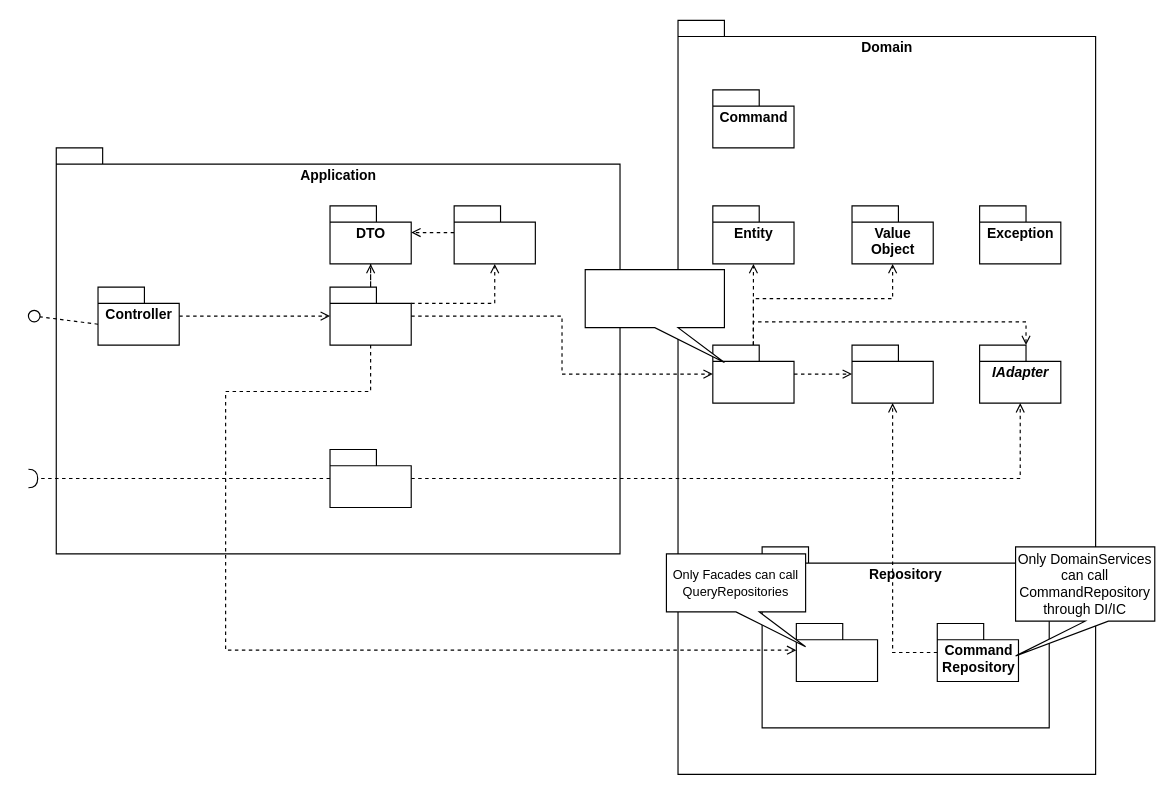
This 1175x795 diagram has some shape labels left out. The shapes that lost their labels are listed below. From the top down, each one's centre as x and y in pixels, then its label:
At (x=494, y=234): "Mapper".
At (x=370, y=315): "Facade".
At (x=654, y=315): "Only Facades can call DomainServices".
At (x=753, y=373): "Domain Service".
At (x=892, y=373): "IRepository".
At (x=370, y=477): "Adapter".
At (x=836, y=652): "Query Repository".
